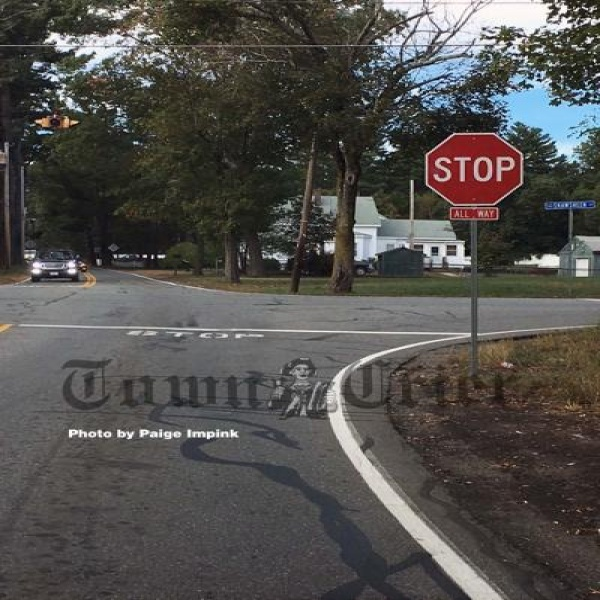stop: (208, 39, 259, 148)
